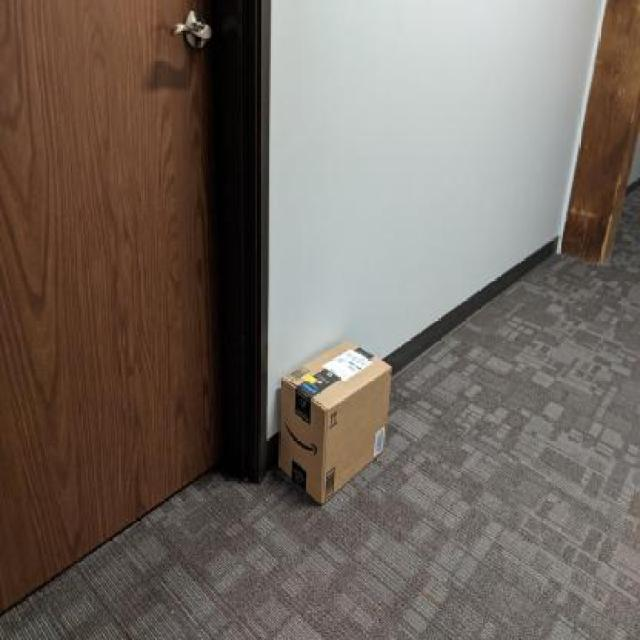cardboxes: (273, 335, 395, 507)
